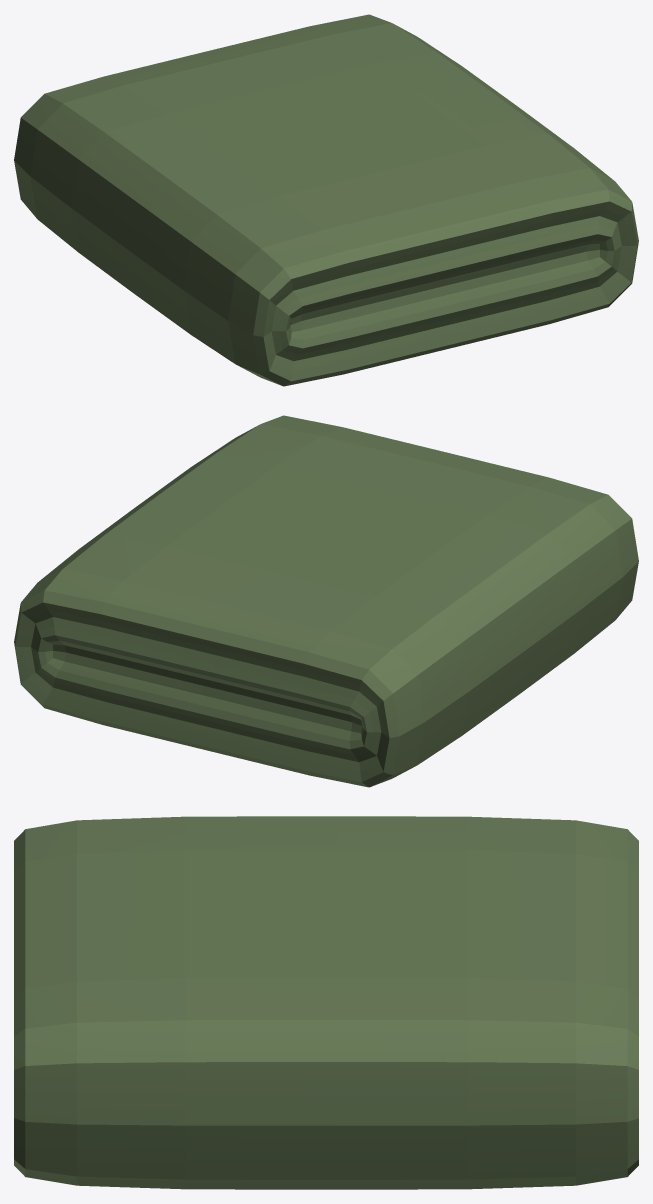
Rendered from Clothes3_C4.fbx.
3 views of the same model, one above another, from view 1: azimuth 30°, elevation 25°; view 2: azimuth 150°, elevation 25°; view 3: azimuth 270°, elevation 25° (orthographic). The views are drawn at different scales.
Parts seen in each view (by area): view 1: Clothes3_C4; view 2: Clothes3_C4; view 3: Clothes3_C4.
Part boxes in pixels (left/top/right/bottom): Clothes3_C4: left=14, top=14, right=638, bottom=386; Clothes3_C4: left=14, top=415, right=638, bottom=787; Clothes3_C4: left=14, top=816, right=638, bottom=1189.
Bounding box in the file's own units: 22.53 × 7.63 × 24.28.
